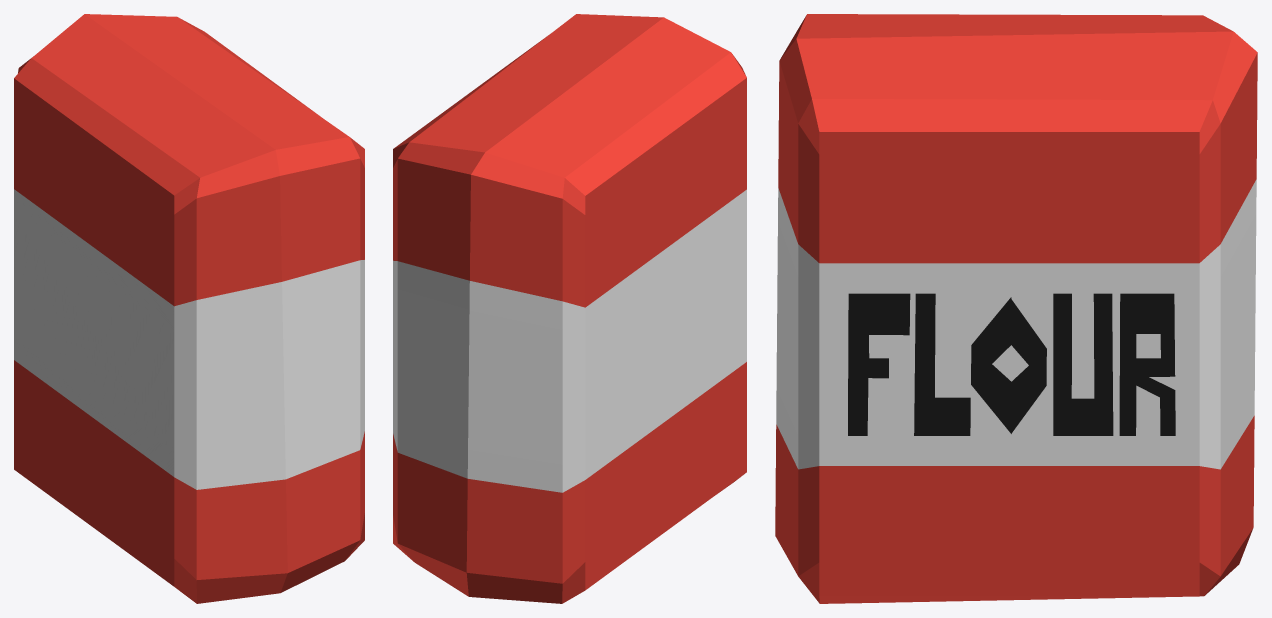
The model's file is flour.fbx.
The picture shows the model from 3 angles, left to right: view 1: azimuth 30°, elevation 25°; view 2: azimuth 150°, elevation 25°; view 3: azimuth 270°, elevation 25°; orthographic projection. The views are drawn at different scales.
Visible parts, largest first — view 1: mesh_116415791; view 2: mesh_116415791; view 3: mesh_116415791.
Boxes of the visible parts, bbox=[...] form: mesh_116415791: bbox=[14, 14, 364, 603]; mesh_116415791: bbox=[393, 14, 746, 603]; mesh_116415791: bbox=[775, 14, 1257, 603].
Size of the model in its own units: 56 by 125 by 103.
